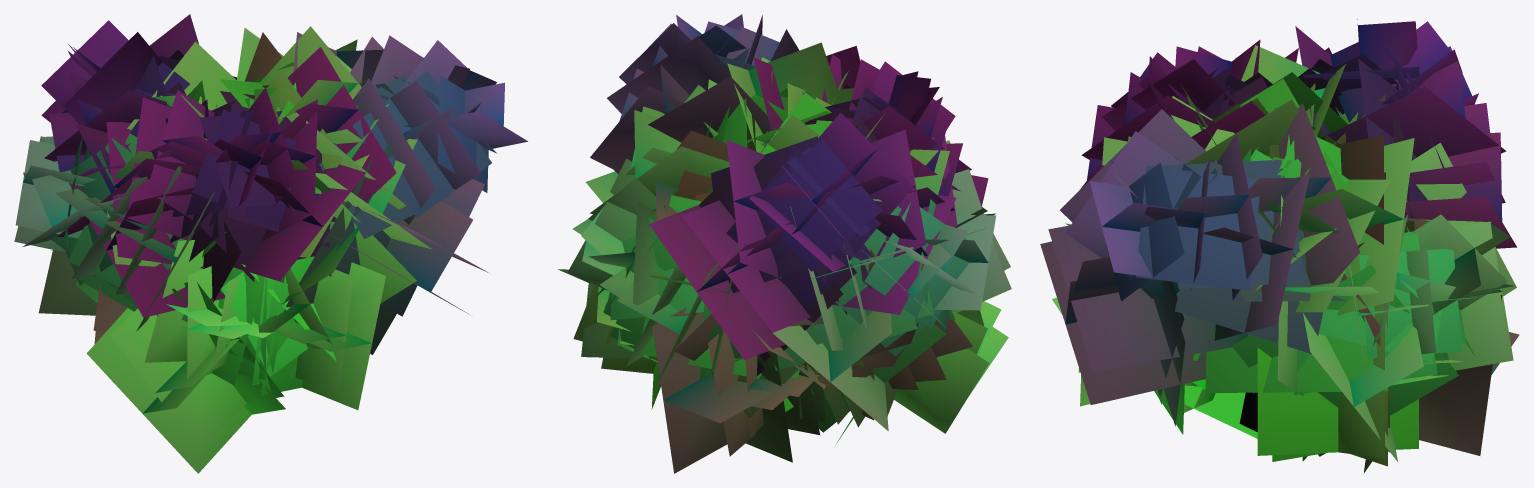
File: bush 1.fbx
3 views of the same model, side by side, from view 1: azimuth 30°, elevation 25°; view 2: azimuth 150°, elevation 25°; view 3: azimuth 270°, elevation 25° (orthographic). The views are drawn at different scales.
Parts seen in each view (by area): view 1: Tree_1; view 2: Tree_1; view 3: Tree_1, Tree_0.
Part boxes in pixels (x1,y1,x2,y2): Tree_1: (14, 14, 527, 473); Tree_1: (558, 14, 1011, 473); Tree_1: (1040, 19, 1519, 473); Tree_0: (1239, 392, 1257, 431).
Size of the model in its own units: 144 by 123 by 129.
